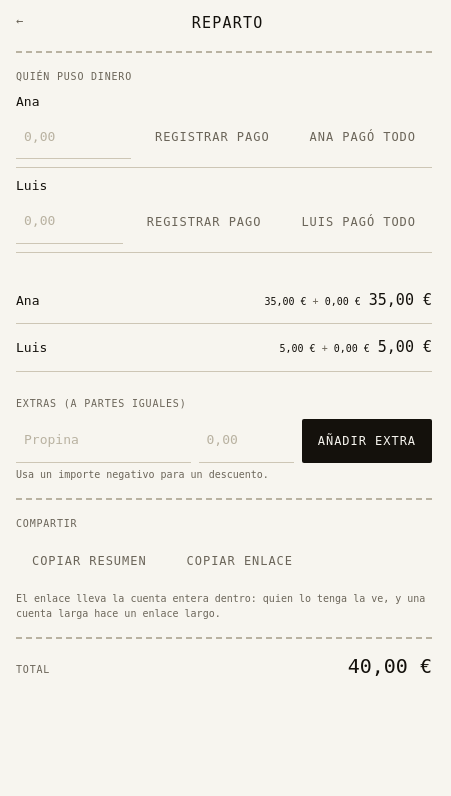
Test: ResultScreen › el atajo "pagó todo" registra el total y calcula la transferencia
Click the button "Ana pagó todo": (363, 137) [294, 115, 432, 159]
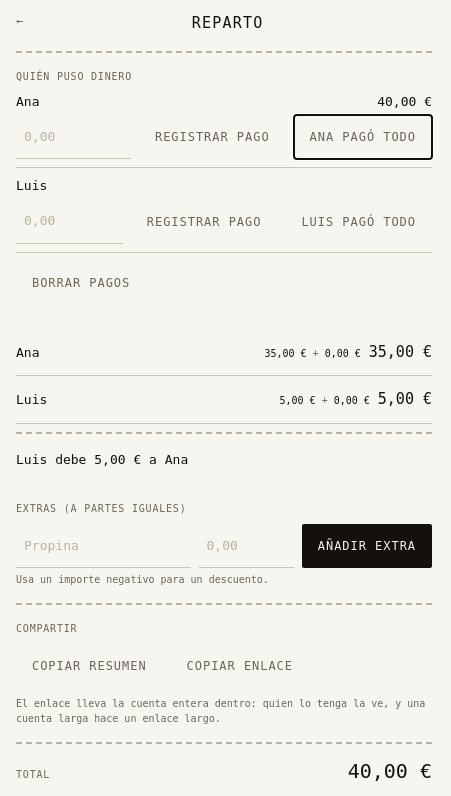
Now the list with test id "debts" reads "Luis debe 5,00 € a Ana", box [16, 432, 432, 485]
